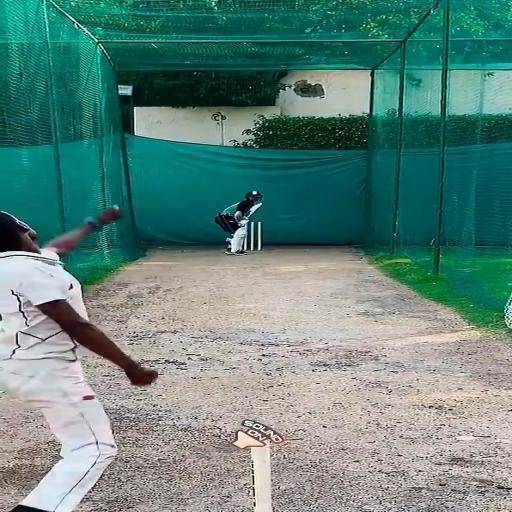Cricket bat: (247, 203, 262, 217)
